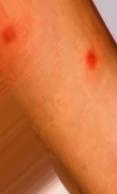Spider: (75, 46, 101, 74), (3, 26, 13, 42)
